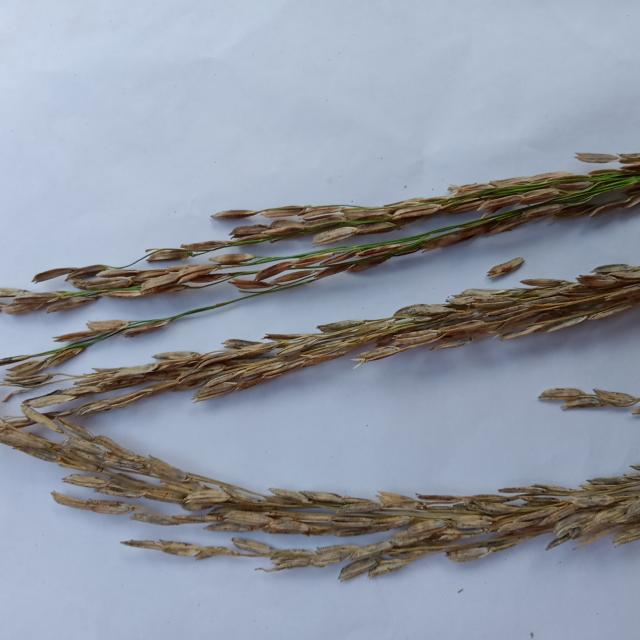Neck_Blast: (2, 161, 639, 315), (67, 266, 640, 418), (62, 428, 640, 568)
